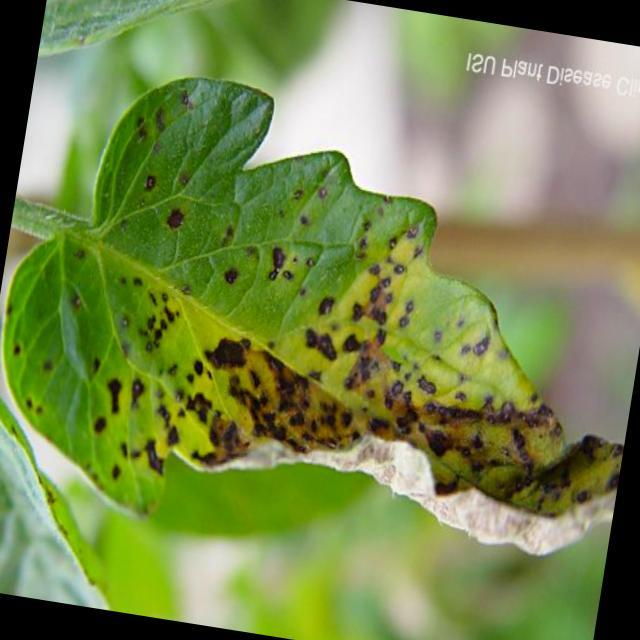Tomato Septoria spot leaf: (0, 46, 640, 592)
